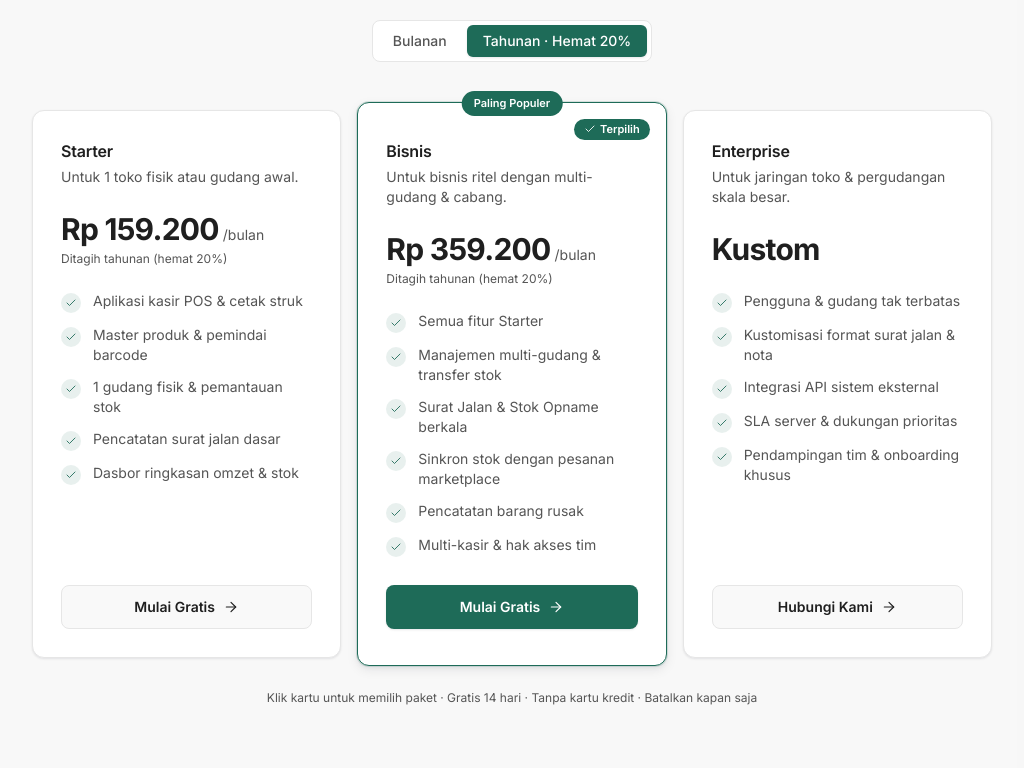
Test case: PricingSection › klik kartu Enterprise memindahkan tanda Terpilih ke Enterprise
(page scrolled)
Click the radio button that starts with "Enterprise" at x=837, y=384, box [683, 110, 992, 658]
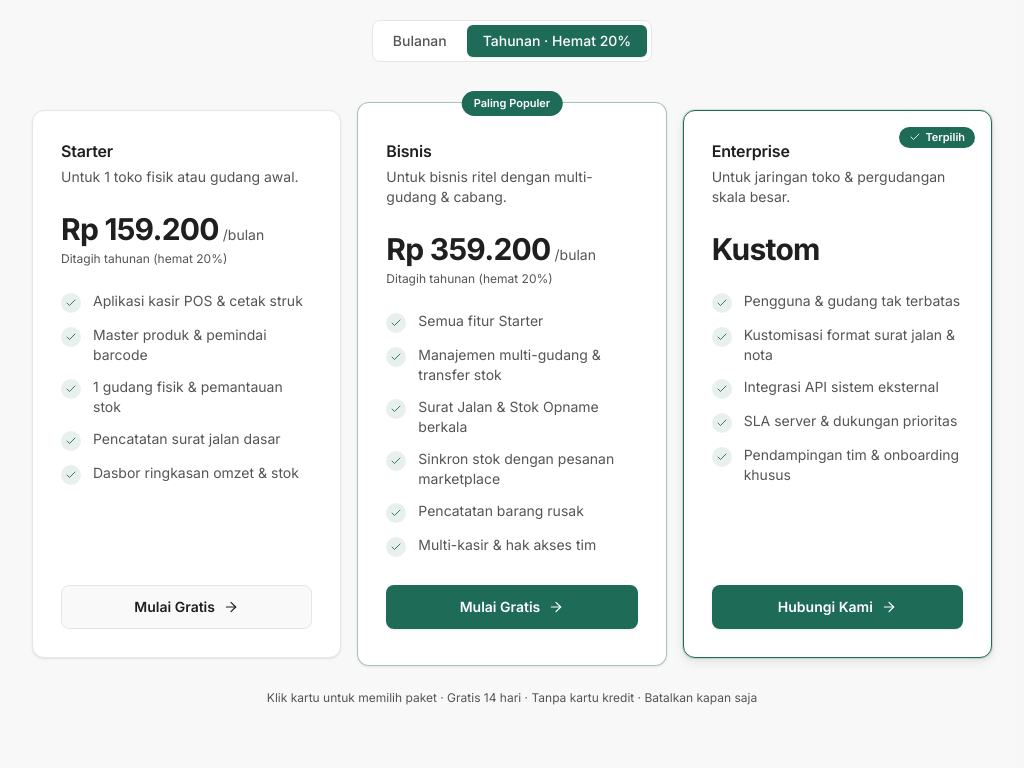
Now the radio button that starts with "Terpilih" is shown, box [683, 110, 992, 658]
